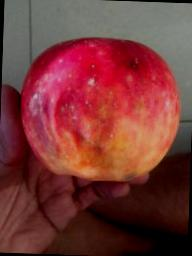Apple Overripe: (18, 22, 187, 188)
